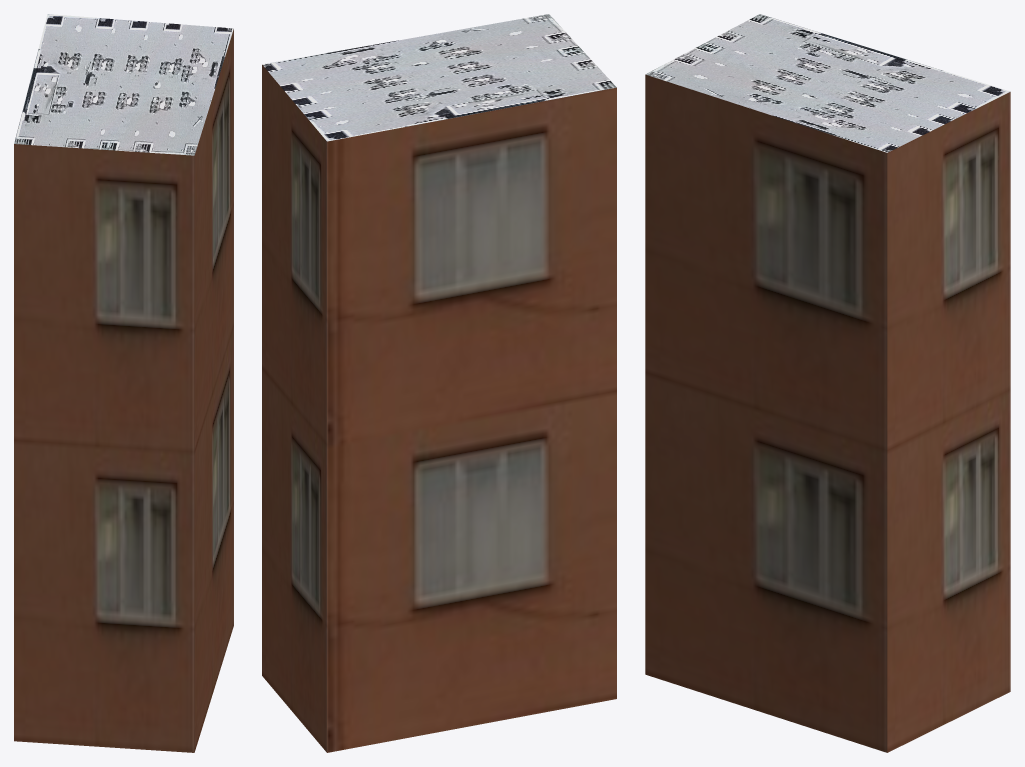
Rendered from ResTex__100.fbx.
3 views of the same model, side by side, from view 1: azimuth 30°, elevation 25°; view 2: azimuth 150°, elevation 25°; view 3: azimuth 270°, elevation 25° (orthographic). The views are drawn at different scales.
Parts seen in each view (by area): view 1: CityEngineMaterial_20_m, CityEngineMaterial_4_m; view 2: CityEngineMaterial_20_m, CityEngineMaterial_4_m; view 3: CityEngineMaterial_20_m, CityEngineMaterial_4_m.
Part boxes in pixels (bbox=[...]): CityEngineMaterial_20_m: bbox=[14, 29, 233, 752]; CityEngineMaterial_4_m: bbox=[14, 14, 233, 155]; CityEngineMaterial_20_m: bbox=[262, 65, 616, 752]; CityEngineMaterial_4_m: bbox=[262, 14, 616, 141]; CityEngineMaterial_20_m: bbox=[645, 74, 1010, 752]; CityEngineMaterial_4_m: bbox=[645, 14, 1010, 152].
Size of the model in its own units: 2.98 by 6 by 3.31.
Materials: 2 (2 with a texture image).
